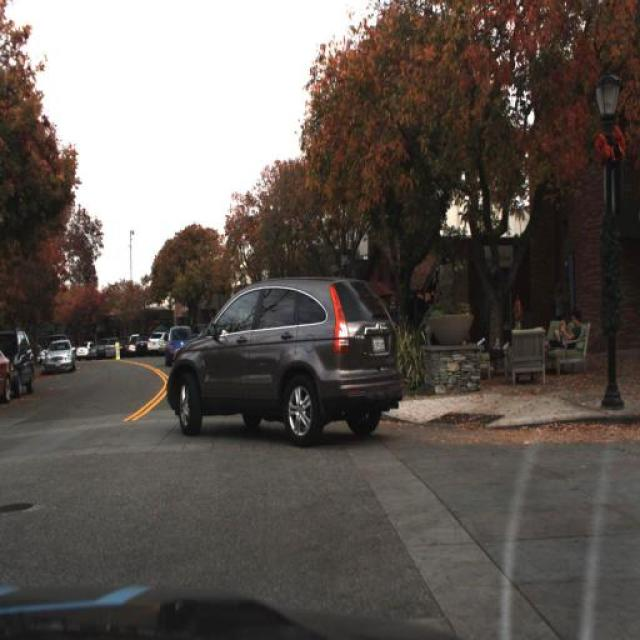car: (161, 259, 405, 445), (3, 326, 39, 395), (44, 337, 77, 372), (1, 347, 13, 405), (147, 330, 167, 356), (75, 341, 90, 365)
trafficLight: (538, 309, 584, 356), (510, 289, 526, 336), (554, 280, 570, 320), (422, 300, 436, 332)
